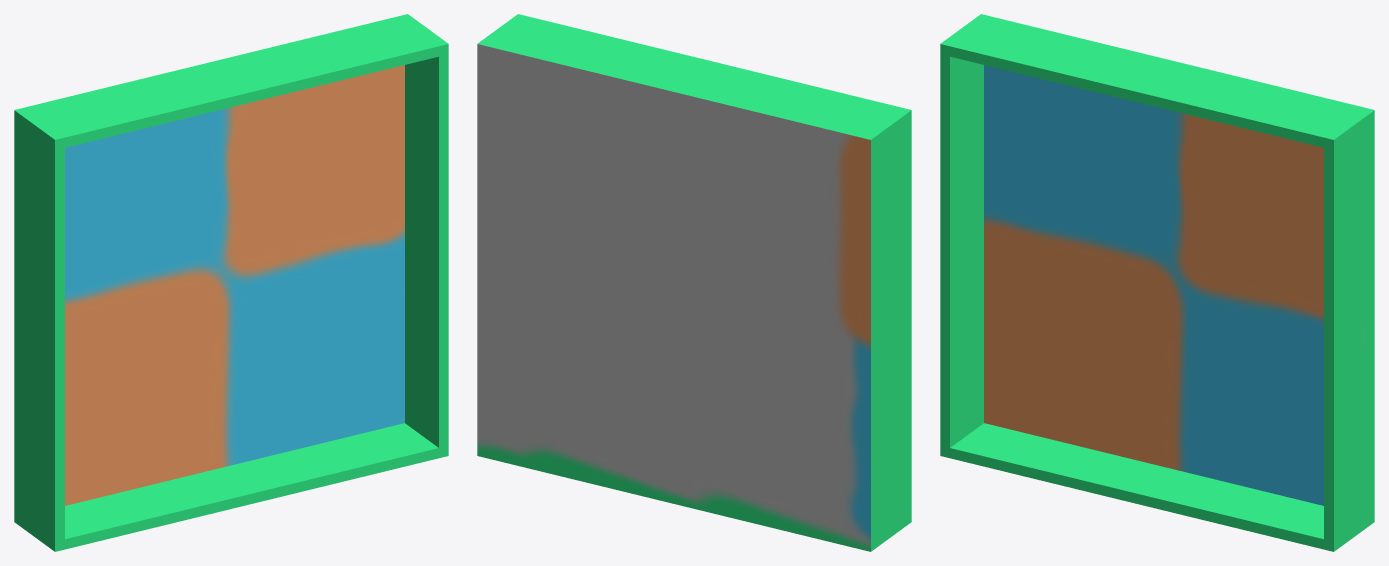
File: room1.gltf
3 renders of one model, left to right at view 1: azimuth 30°, elevation 25°; view 2: azimuth 150°, elevation 25°; view 3: azimuth 330°, elevation 25°, orthographic.
Parts seen in each view (by area): view 1: Room1; view 2: Room1; view 3: Room1.
Part boxes in pixels (<box>): Room1: <box>14,14,448,551</box>; Room1: <box>477,14,911,551</box>; Room1: <box>940,14,1374,551</box>.
Bounding box in the file's own units: 20 × 20 × 3.6.
1 material, 1 textured.
